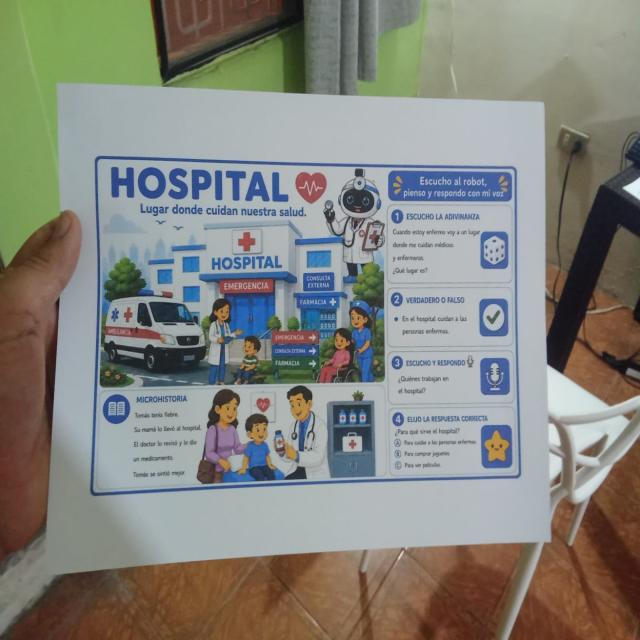hospital: (87, 151, 524, 501)
